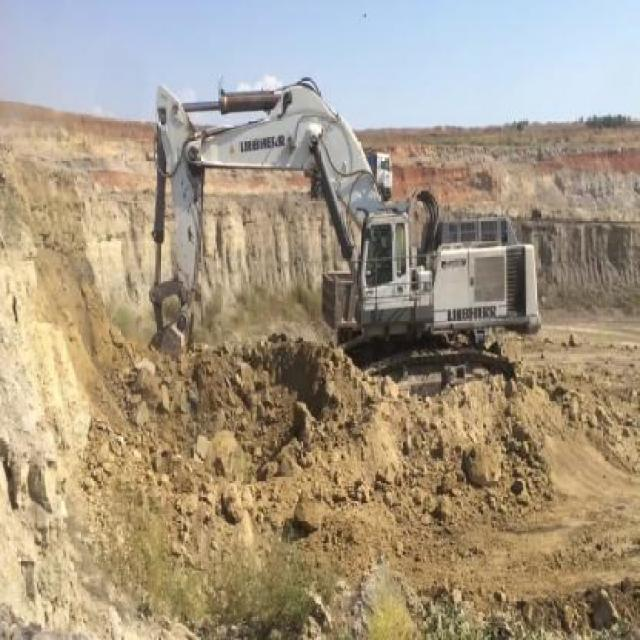Excavator: (145, 67, 540, 399)
